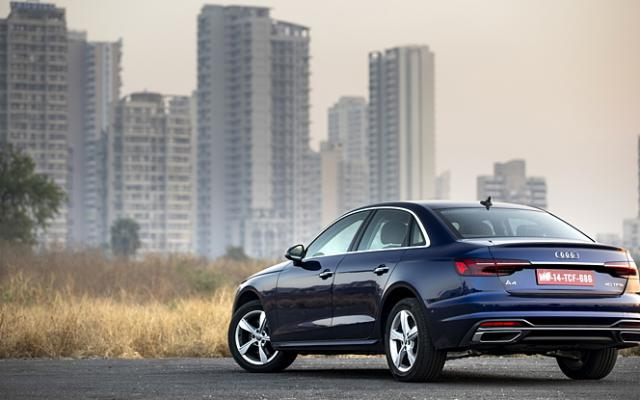audi: (228, 195, 640, 380)
